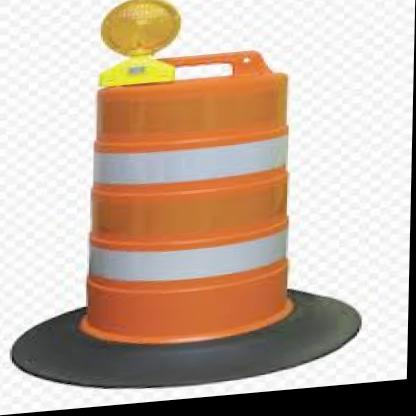obstacle: (53, 67, 313, 362)
